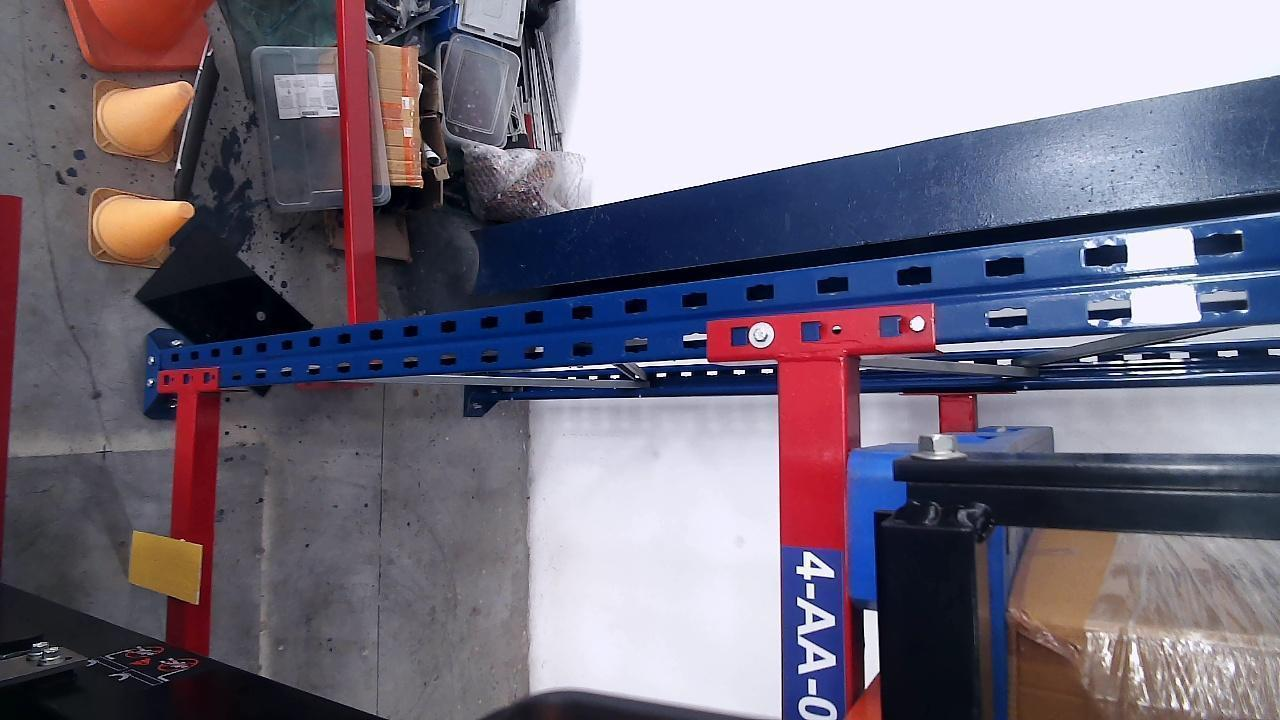red_line: (0, 194, 21, 576)
